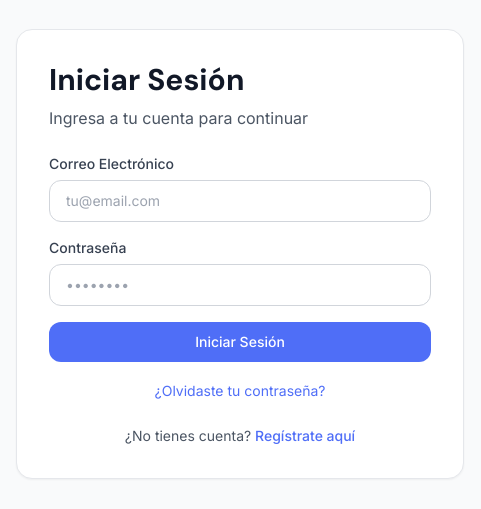
Test case: LoginPage Component › shows validation error for invalid email
Type "invalid-email" into the field with placeholder "tu@email.com".
click(240, 201); type("invalid-email")  # box [49,180,431,222]
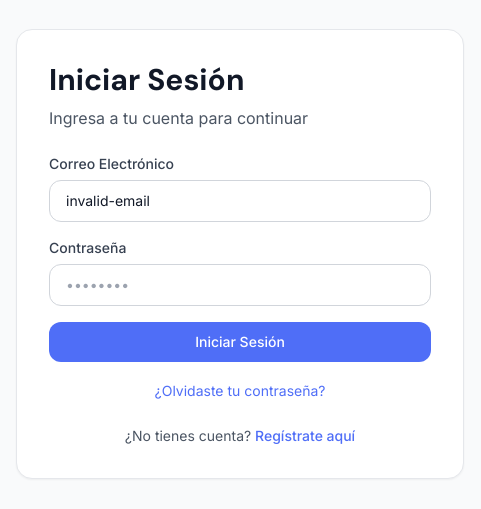
Type "password123" into the password field with placeholder "••••••••".
click(240, 285); type("password123")  # box [49,264,431,306]
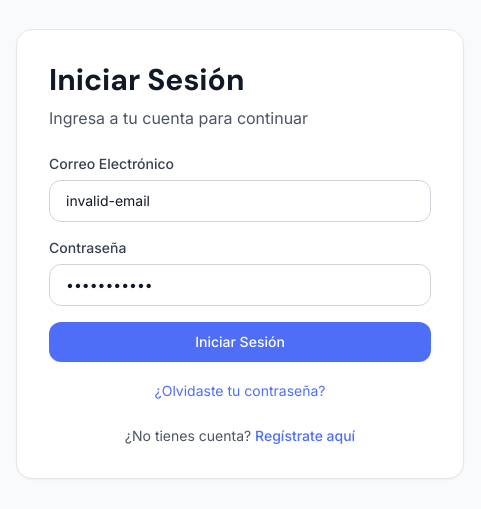
Submit the form with placeholder "tu@email.com", box [49,154,431,362]
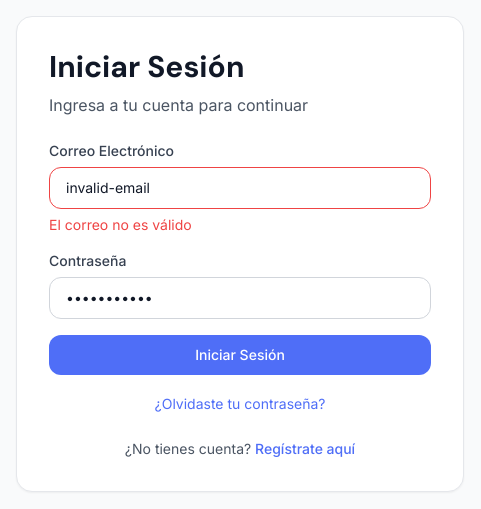
Now the text "El correo no es válido" is shown, box [49,216,192,233]
